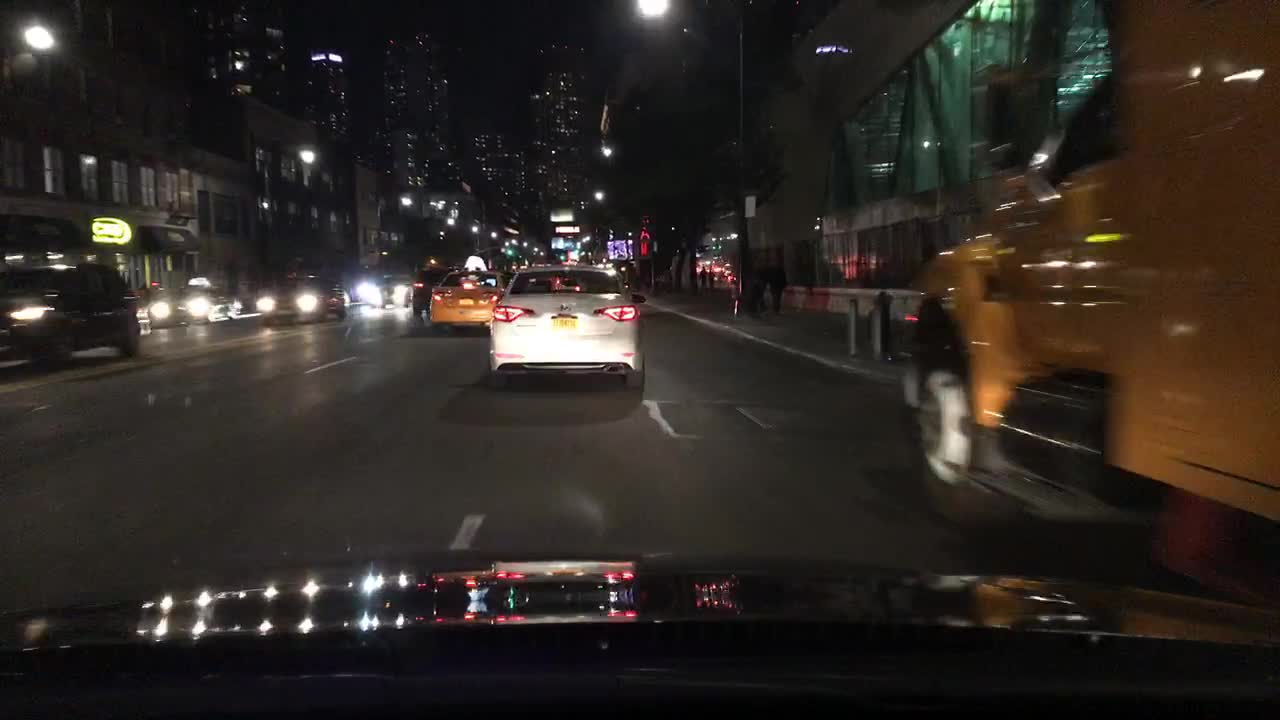car: (486, 258, 649, 400), (0, 254, 142, 374), (420, 254, 507, 337), (138, 272, 254, 332), (251, 266, 352, 327), (348, 250, 433, 312), (402, 262, 462, 317), (595, 261, 641, 293), (504, 264, 520, 287)
person: (762, 250, 790, 316), (748, 256, 772, 314), (695, 261, 711, 296)
traffic light: (643, 235, 661, 259), (506, 241, 519, 259), (556, 248, 565, 262)
traffic sign: (740, 191, 756, 219), (556, 222, 578, 235)
truck: (895, 1, 1278, 613)
